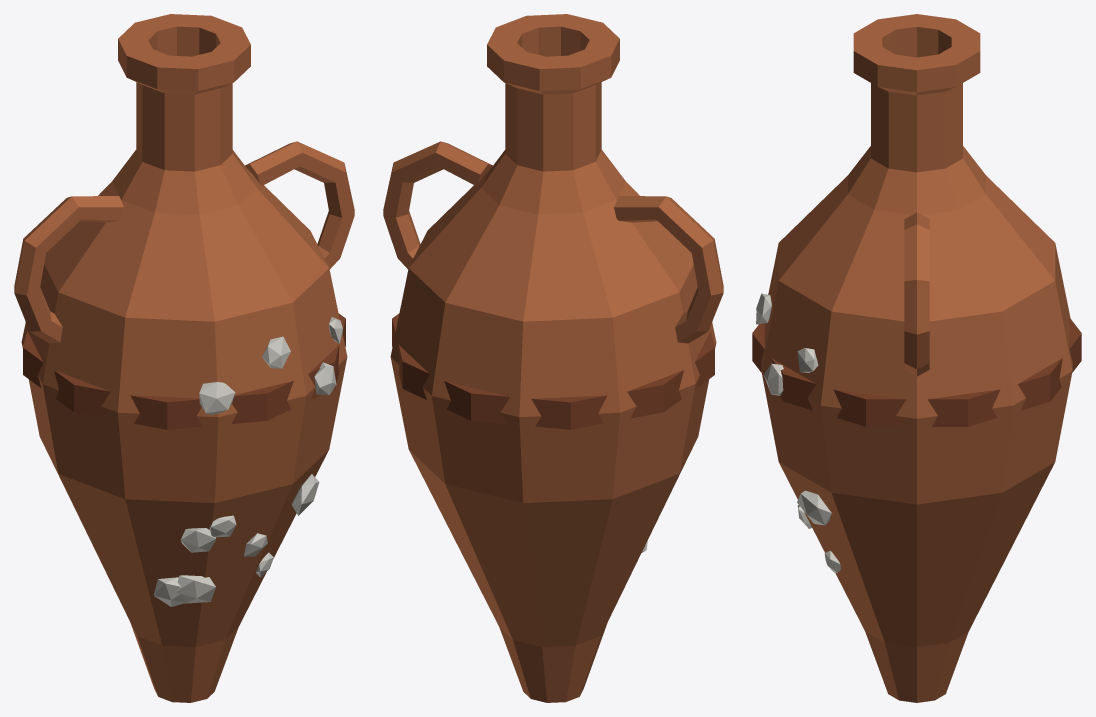
Rendered from amphore.glb.
The picture shows the model from 3 angles, left to right: view 1: azimuth 30°, elevation 25°; view 2: azimuth 150°, elevation 25°; view 3: azimuth 270°, elevation 25°; orthographic projection.
Parts seen in each view (by area): view 1: amphore; view 2: amphore; view 3: amphore.
Part boxes in pixels (x1,y1,x2,y2): amphore: [14, 14, 354, 702]; amphore: [383, 14, 723, 702]; amphore: [752, 14, 1081, 702].
Size of the model in its own units: 0.6479 by 1.18 by 0.544.
